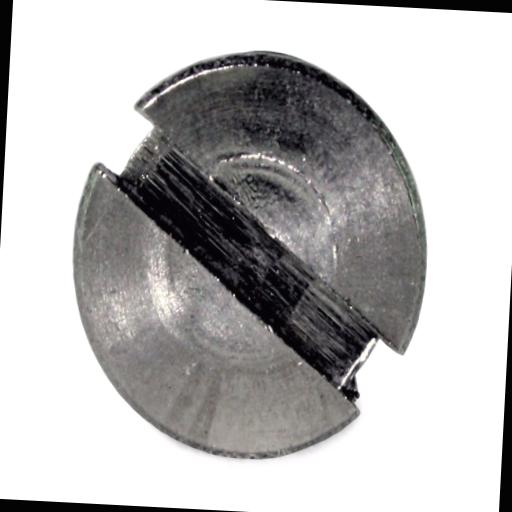Slotted: (64, 41, 432, 468)
